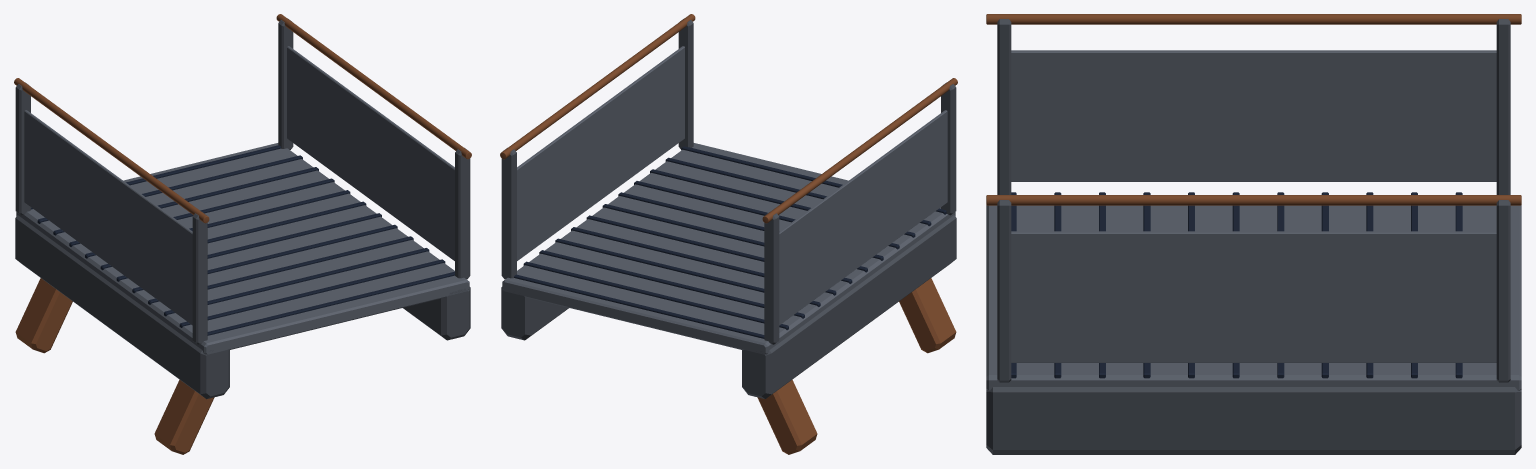
Rendered from spire_fireescape_v2.glb.
3 views of the same model, side by side, from view 1: azimuth 30°, elevation 25°; view 2: azimuth 150°, elevation 25°; view 3: azimuth 270°, elevation 25° (orthographic). The views are drawn at different scales.
Parts seen in each view (by area): view 1: escape_deck, escape_mesh_i, escape_mesh_o, escape_stringer-1, escape_bracket1.1, escape_bracket-1.1, escape_stringer1, escape_post_i2, escape_post_o2, escape_rail_o, escape_rail_i, escape_post_i1 (+13 smaller); view 2: escape_deck, escape_mesh_i, escape_mesh_o, escape_stringer-1, escape_bracket-1.1, escape_bracket1.1, escape_stringer1, escape_post_i1, escape_post_o1, escape_rail_o, escape_rail_i, escape_post_i2 (+13 smaller); view 3: escape_mesh_o, escape_mesh_i, escape_stringer1, escape_deck, escape_rail_i, escape_rail_o, escape_post_o1, escape_post_o2, escape_post_i1, escape_post_i2.
Part boxes in pixels (x1,y1,x2,y2): escape_deck: [16, 143, 469, 354]; escape_mesh_i: [24, 110, 192, 325]; escape_mesh_o: [287, 46, 454, 260]; escape_stringer-1: [15, 215, 229, 399]; escape_bracket1.1: [154, 379, 214, 454]; escape_bracket-1.1: [15, 278, 72, 353]; escape_stringer1: [403, 287, 470, 340]; escape_post_i2: [192, 212, 207, 344]; escape_post_o2: [455, 148, 470, 279]; escape_rail_o: [276, 14, 471, 159]; escape_rail_i: [14, 78, 209, 223]; escape_post_i1: [15, 82, 30, 215]; escape_deck: [502, 143, 955, 354]; escape_mesh_i: [779, 110, 947, 325]; escape_mesh_o: [517, 46, 684, 260]; escape_stringer-1: [742, 215, 956, 399]; escape_bracket-1.1: [757, 379, 817, 454]; escape_bracket1.1: [899, 278, 956, 353]; escape_stringer1: [501, 287, 568, 340]; escape_post_i1: [764, 212, 779, 344]; escape_post_o1: [501, 148, 516, 279]; escape_rail_o: [500, 14, 695, 159]; escape_rail_i: [762, 78, 957, 223]; escape_post_i2: [941, 82, 956, 215]; escape_mesh_o: [1011, 231, 1496, 362]; escape_mesh_i: [1011, 50, 1496, 181]; escape_stringer1: [986, 387, 1521, 454]; escape_deck: [986, 205, 1521, 390]; escape_rail_i: [986, 14, 1521, 24]; escape_rail_o: [986, 195, 1521, 205]; escape_post_o1: [1496, 200, 1510, 382]; escape_post_o2: [997, 200, 1011, 382]; escape_post_i1: [1496, 19, 1510, 194]; escape_post_i2: [997, 19, 1011, 194].
Size of the model in its own units: 2.63 by 2.18 by 3.
